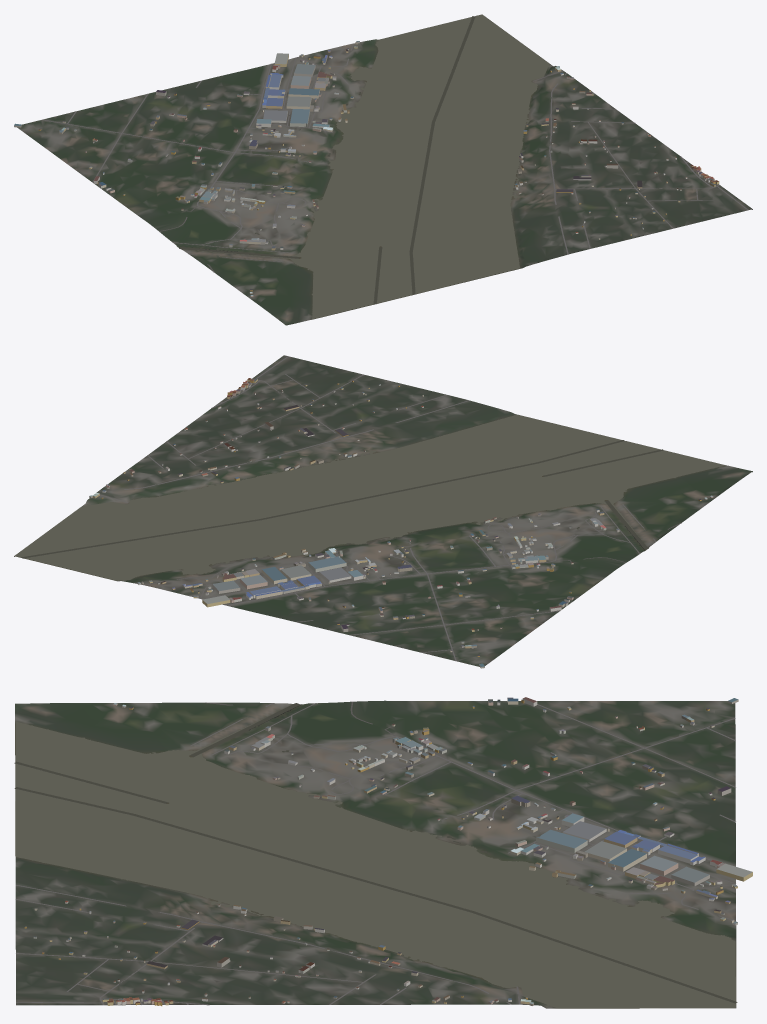
3 views of the same model, one above another, from view 1: azimuth 30°, elevation 25°; view 2: azimuth 150°, elevation 25°; view 3: azimuth 270°, elevation 25° (orthographic). The views are drawn at different scales.
Visible parts, largest first — view 1: ground, water, buildings, roads; view 2: ground, water, buildings, roads; view 3: ground, water, buildings, roads.
Part boxes in pixels (x1,y1,x2,y2): ground: [17, 16, 752, 325]; water: [179, 14, 551, 319]; buildings: [14, 41, 719, 296]; roads: [42, 45, 748, 272]; ground: [14, 355, 752, 666]; water: [15, 414, 725, 580]; buildings: [89, 378, 713, 668]; roads: [98, 356, 681, 661]; ground: [15, 700, 736, 1008]; water: [14, 703, 737, 1007]; buildings: [24, 697, 752, 1006]; roads: [15, 701, 735, 1005].
Size of the model in its own units: 1412 by 21 by 1438.
